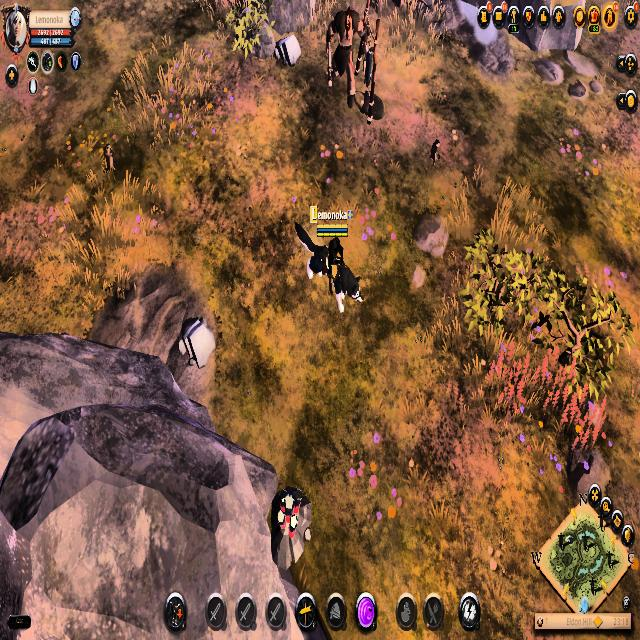ore tier 5: (269, 482, 312, 573)
rock tier 1: (177, 314, 216, 370), (274, 33, 302, 67)
